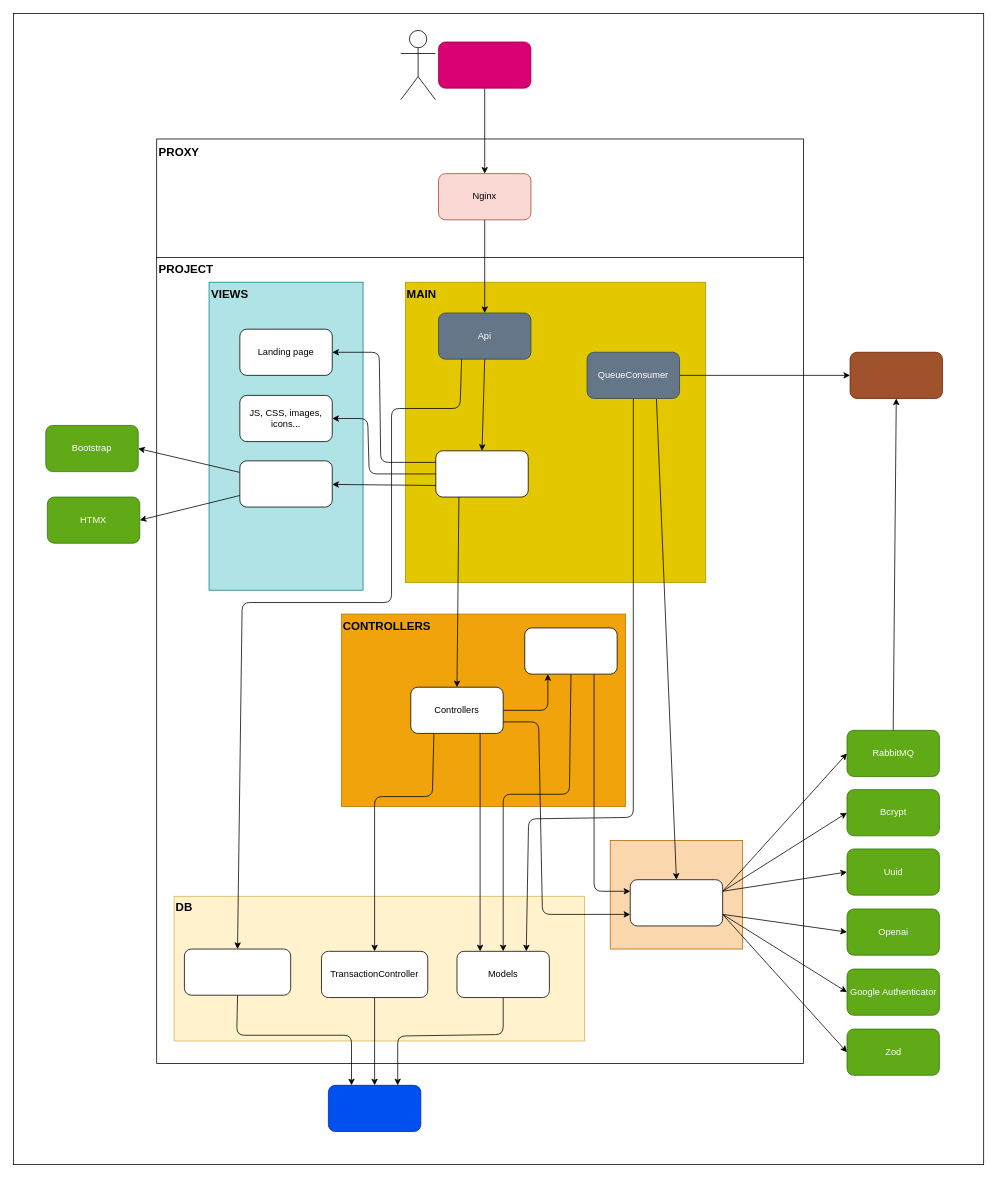
Image size: 997x1178. Some labels were removed from this diagram. The shapes that lost their labels are listed below. From the top down, each one's centre as x and y in pixels, then its label:
(x=484, y=64): Client
(x=895, y=375): RabbitMQ Service
(x=285, y=483): App (MPA)
(x=481, y=473): Routes
(x=570, y=650): Middlewares
(x=676, y=902): Adapters
(x=237, y=971): DbConnector
(x=374, y=1108): Postgres
